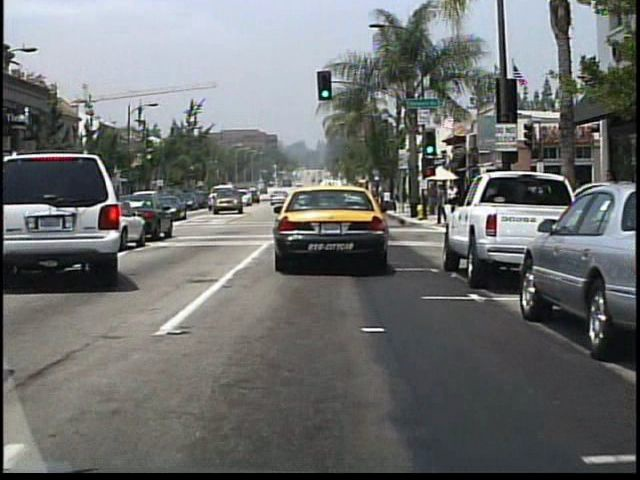person: (436, 182, 448, 225), (445, 182, 458, 215), (425, 182, 436, 216)
